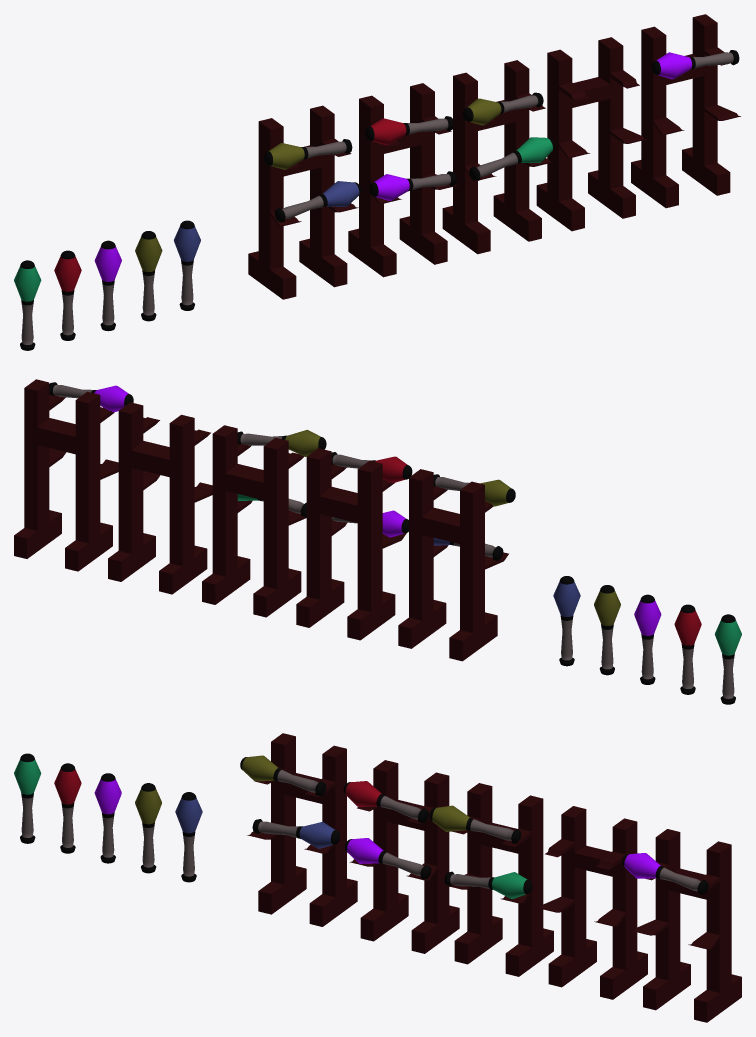
Rendered from JuggleStix.glb.
The picture shows the model from 3 angles, top to bottom: view 1: azimuth 30°, elevation 25°; view 2: azimuth 150°, elevation 25°; view 3: azimuth 330°, elevation 25°; orthographic projection.
Parts seen in each view (by area): view 1: Rack Yellow-Blue-col, Rack-Yellow-Green-col, Rack Red-Purple-col, Rack-purple-col, Rack-Naked-Col, Juggling Stick Purple, Juggling Stick Blue, Juggling Stick Green, Juggling Stick Red, Juggling Stick Yellow; view 2: Rack Red-Purple-col, Rack-Yellow-Green-col, Rack-purple-col, Rack Yellow-Blue-col, Rack-Naked-Col, Juggling Stick Yellow, Juggling Stick Red, Juggling Stick Purple, Juggling Stick Green, Juggling Stick Blue; view 3: Rack-Yellow-Green-col, Rack Yellow-Blue-col, Rack Red-Purple-col, Rack-purple-col, Rack-Naked-Col, Juggling Stick Yellow, Juggling Stick Green, Juggling Stick Red, Juggling Stick Purple, Juggling Stick Blue.
Part boxes in pixels (left/top/right/bottom): Rack Yellow-Blue-col: left=248, top=105, right=361, bottom=299; Rack-Yellow-Green-col: left=442, top=60, right=554, bottom=254; Rack Red-Purple-col: left=348, top=83, right=458, bottom=277; Rack-purple-col: left=631, top=14, right=740, bottom=208; Rack-Naked-Col: left=536, top=37, right=646, bottom=231; Juggling Stick Purple: left=94, top=240, right=121, bottom=331; Juggling Stick Blue: left=174, top=220, right=200, bottom=310; Juggling Stick Green: left=14, top=260, right=41, bottom=350; Juggling Stick Red: left=54, top=250, right=81, bottom=340; Juggling Stick Yellow: left=135, top=231, right=162, bottom=321; Rack Red-Purple-col: left=296, top=448, right=412, bottom=640; Rack-Yellow-Green-col: left=202, top=425, right=326, bottom=617; Rack-purple-col: left=14, top=379, right=133, bottom=571; Rack Yellow-Blue-col: left=398, top=469, right=515, bottom=661; Rack-Naked-Col: left=108, top=402, right=212, bottom=594; Juggling Stick Yellow: left=594, top=585, right=620, bottom=675; Juggling Stick Red: left=674, top=604, right=701, bottom=694; Juggling Stick Purple: left=634, top=594, right=661, bottom=684; Juggling Stick Green: left=714, top=614, right=741, bottom=704; Juggling Stick Blue: left=553, top=576, right=580, bottom=666; Rack-Yellow-Green-col: left=429, top=783, right=553, bottom=976; Rack Yellow-Blue-col: left=240, top=733, right=357, bottom=926; Rack Red-Purple-col: left=343, top=760, right=459, bottom=953; Rack-purple-col: left=622, top=829, right=741, bottom=1022; Rack-Naked-Col: left=538, top=806, right=647, bottom=999; Juggling Stick Yellow: left=135, top=783, right=161, bottom=873; Juggling Stick Green: left=14, top=753, right=41, bottom=843; Juggling Stick Red: left=54, top=763, right=81, bottom=853; Juggling Stick Purple: left=94, top=773, right=121, bottom=863; Juggling Stick Blue: left=175, top=792, right=202, bottom=882.
Size of the model in its own units: 52.7 by 11.62 by 5.94.
Materials: 2 (2 with a texture image).
